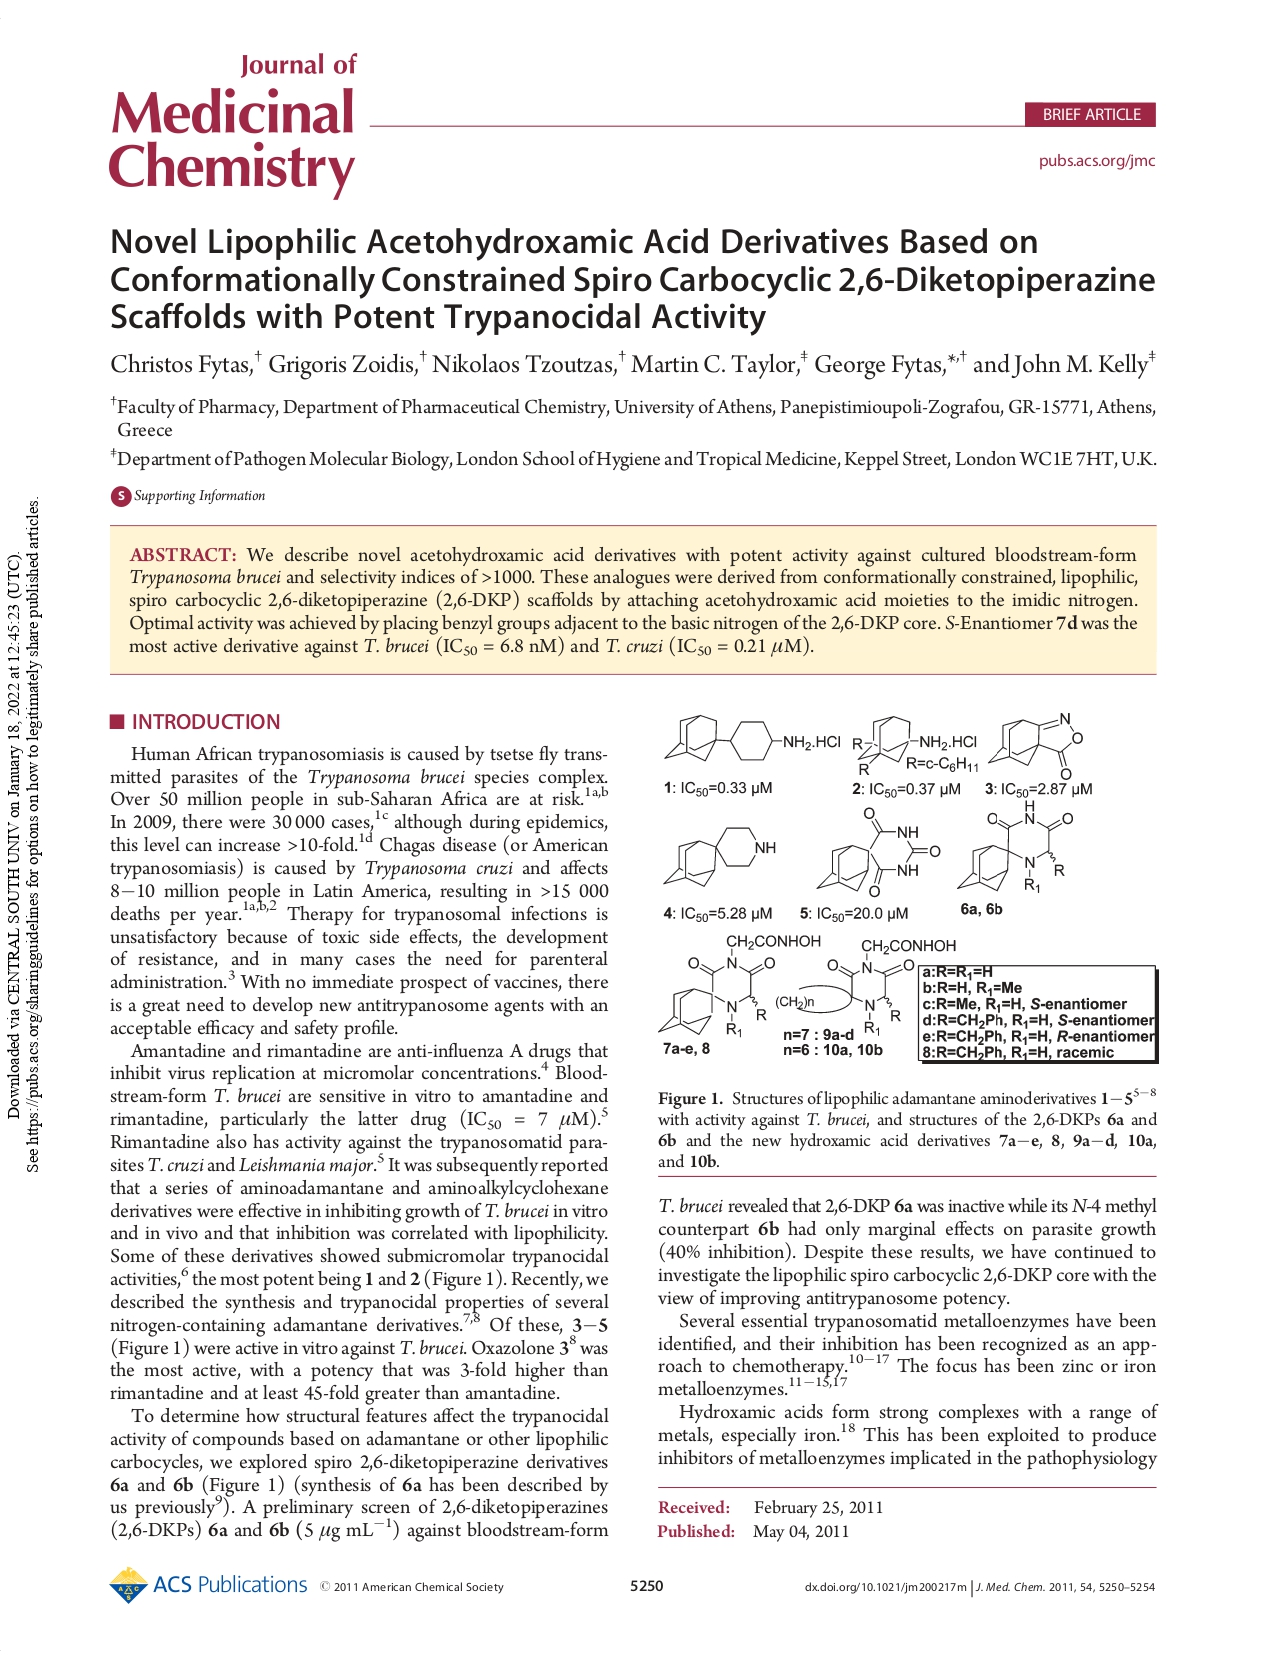exist_molecular: (775, 938, 961, 1036), (653, 930, 822, 1037), (814, 805, 943, 900), (953, 797, 1076, 895), (662, 705, 842, 767), (656, 818, 781, 891), (848, 714, 980, 777), (987, 709, 1084, 781)
